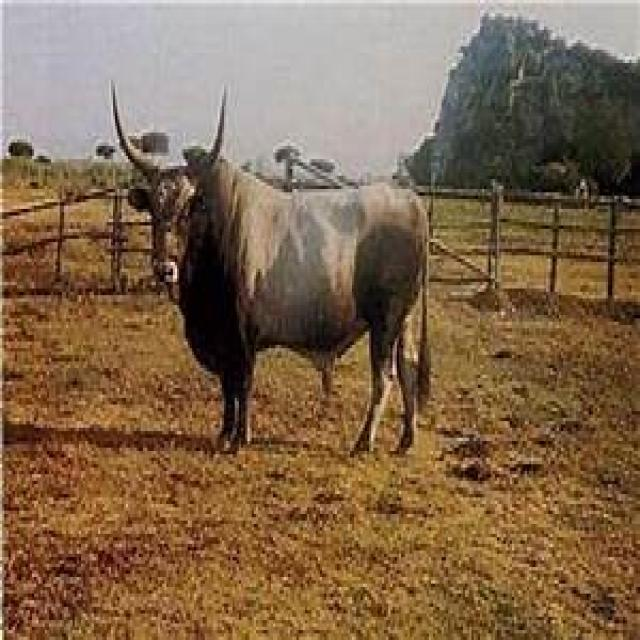cow: (122, 126, 429, 458)
